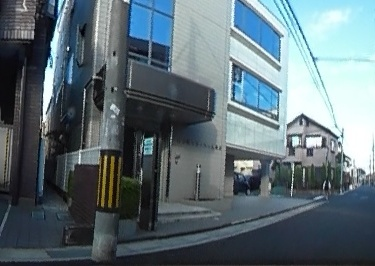person: (321, 175, 331, 199)
